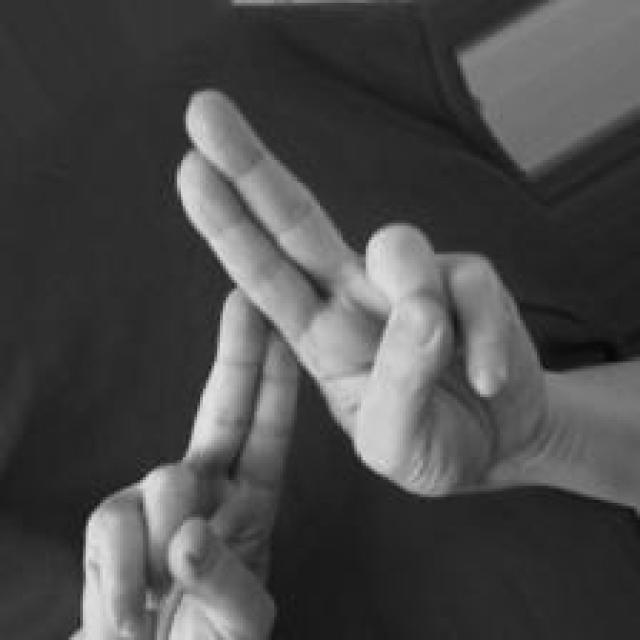K: (80, 77, 640, 640)
